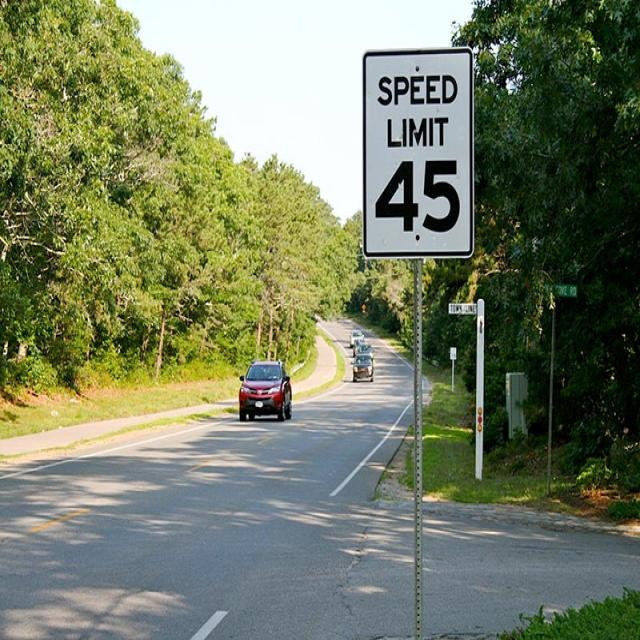speedLimit45: (361, 47, 477, 261)
